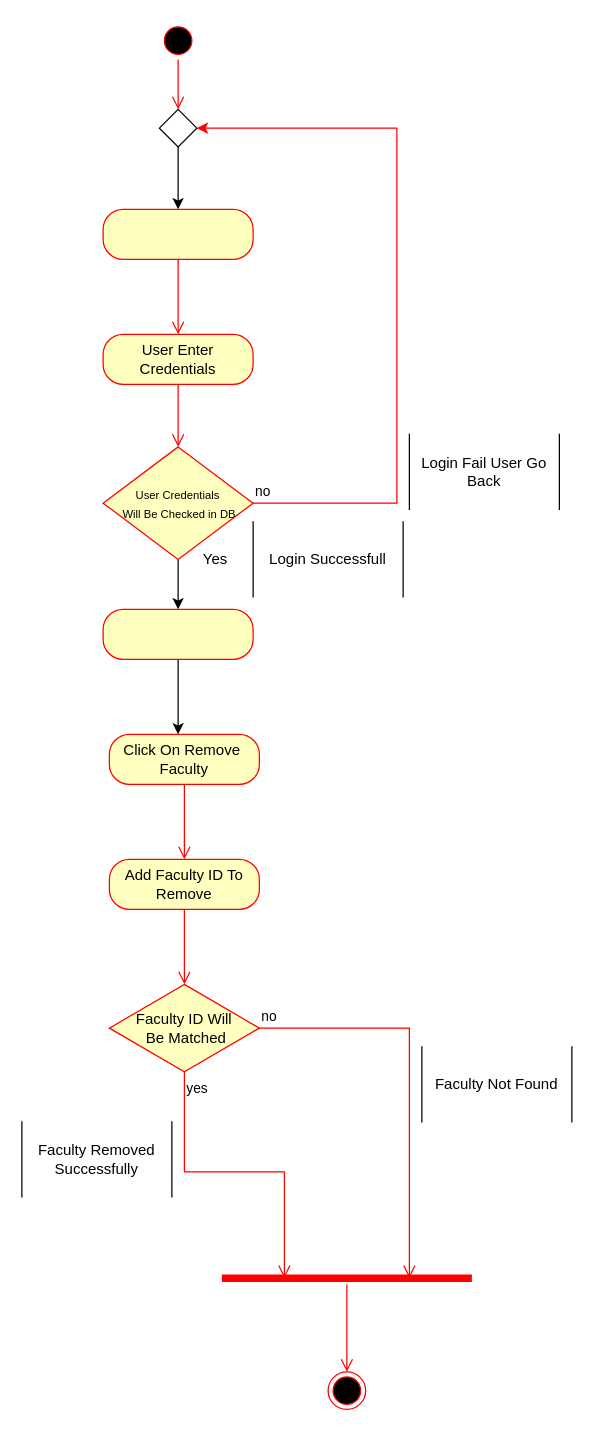
Image size: 594x1431. Some labels were removed from this diagram. The shapes that lost their labels are listed below. From the top down, each one's box as (x1, y1, x2, y2) in pixels, then its label:
(102, 208, 253, 259): Click On Login
(102, 608, 253, 659): Click On Remove Student / Faculty
